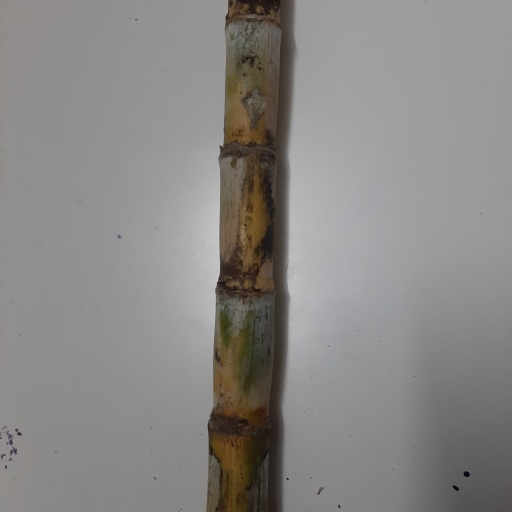Bud: (238, 274, 256, 290)
